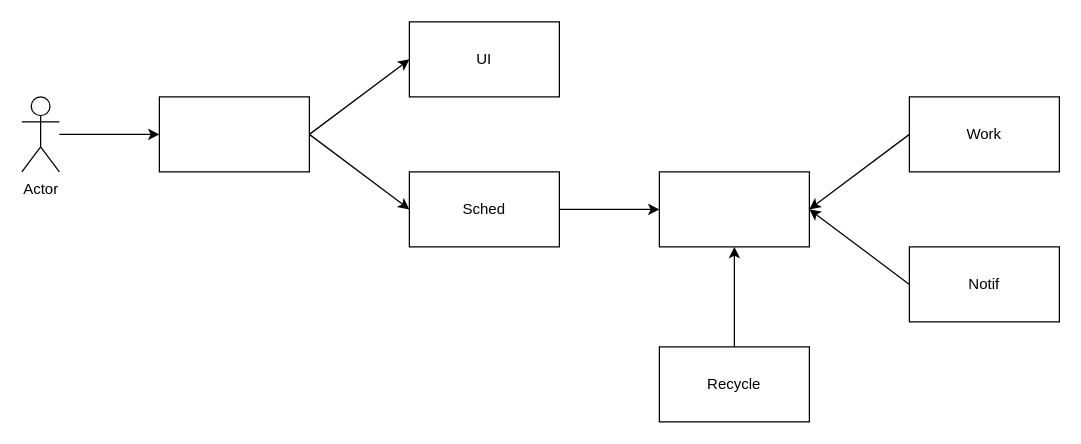
The diagram is 1081 pixels wide and 444 high, and some of its shapes have lost their labels. The shapes that lost their labels are listed below. From the top down, each one's centre as x and y in pixels, then its label:
At pixel 233 134: "Gate".
At pixel 733 209: "Redis".
